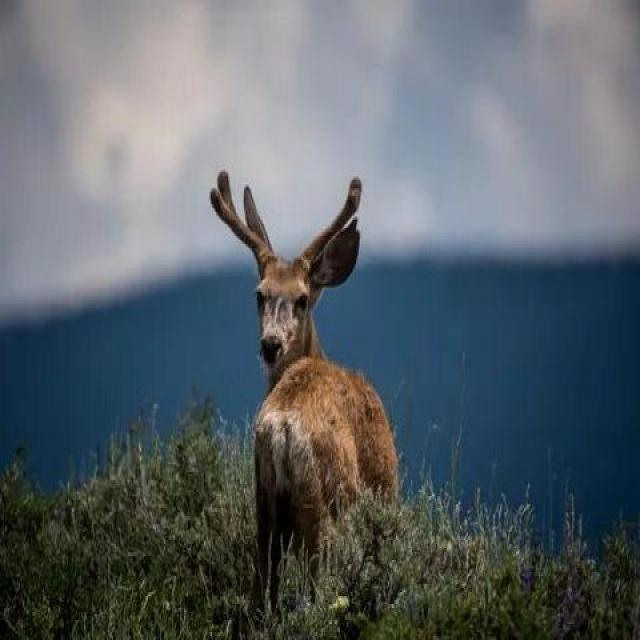deer: (184, 141, 436, 544)
